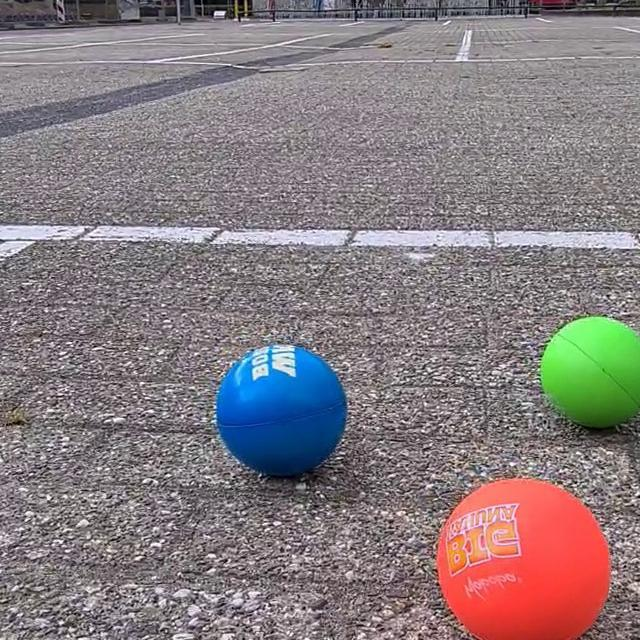ball: (371, 206, 551, 371), (212, 337, 352, 476), (536, 312, 640, 439)
